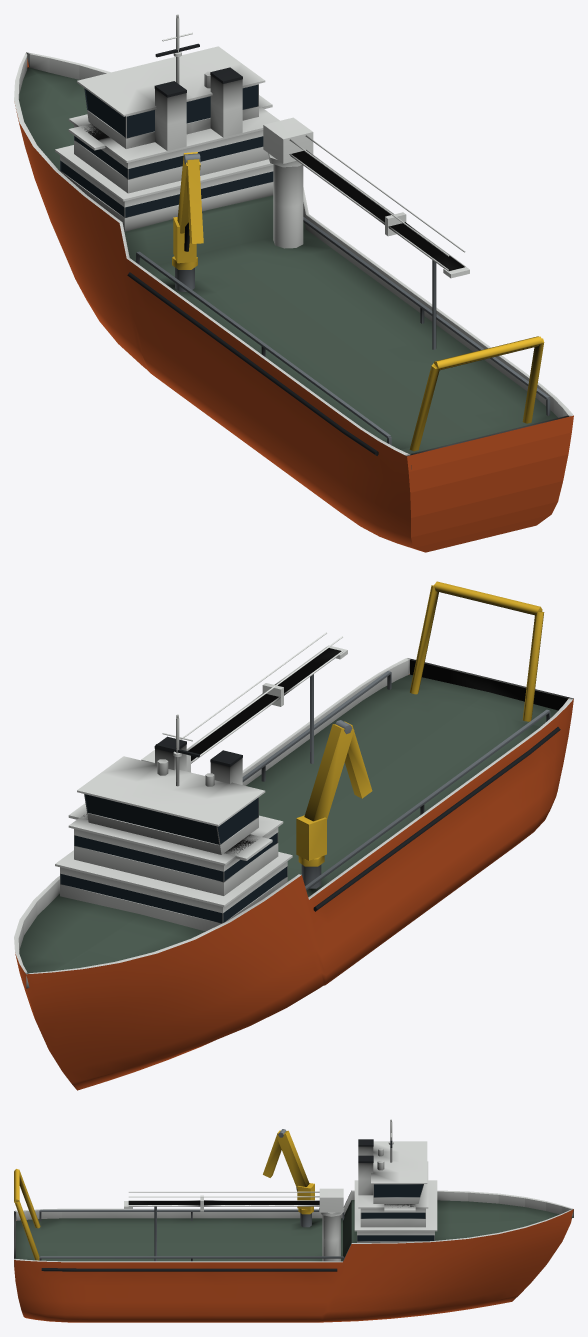
Rendered from offshore_service_LOD1.glb.
3 views of the same model, one above another, from view 1: azimuth 30°, elevation 25°; view 2: azimuth 150°, elevation 25°; view 3: azimuth 270°, elevation 25° (orthographic). The views are drawn at different scales.
Parts seen in each view (by area): view 1: Hull, Deck, Superstructure, Windows, Crane, Machinery, Rubber; view 2: Hull, Superstructure, Deck, Windows, Crane, Machinery, Rubber; view 3: Hull, Deck, Superstructure, Crane, Machinery, Windows, Rubber.
Part boxes in pixels (box(x1,y1,x2,y2)): Hull: box(15, 59, 573, 552); Deck: box(19, 67, 557, 454); Superstructure: box(14, 14, 573, 469); Windows: box(60, 84, 273, 217); Crane: box(172, 152, 544, 451); Machinery: box(136, 153, 550, 445); Rubber: box(127, 43, 378, 455); Hull: box(15, 674, 573, 1090); Superstructure: box(14, 632, 573, 988); Deck: box(19, 674, 557, 973); Windows: box(60, 794, 287, 923); Crane: box(296, 581, 544, 866); Machinery: box(242, 671, 550, 890); Rubber: box(154, 727, 560, 911); Hull: box(14, 1209, 573, 1322); Deck: box(16, 1200, 573, 1261); Superstructure: box(14, 1119, 573, 1266); Crane: box(14, 1130, 314, 1260); Machinery: box(39, 1129, 344, 1261); Windows: box(357, 1184, 434, 1241); Rubber: box(41, 1139, 392, 1271).
Bounding box in the file's own units: 17.77 × 26.92 × 75.02.
